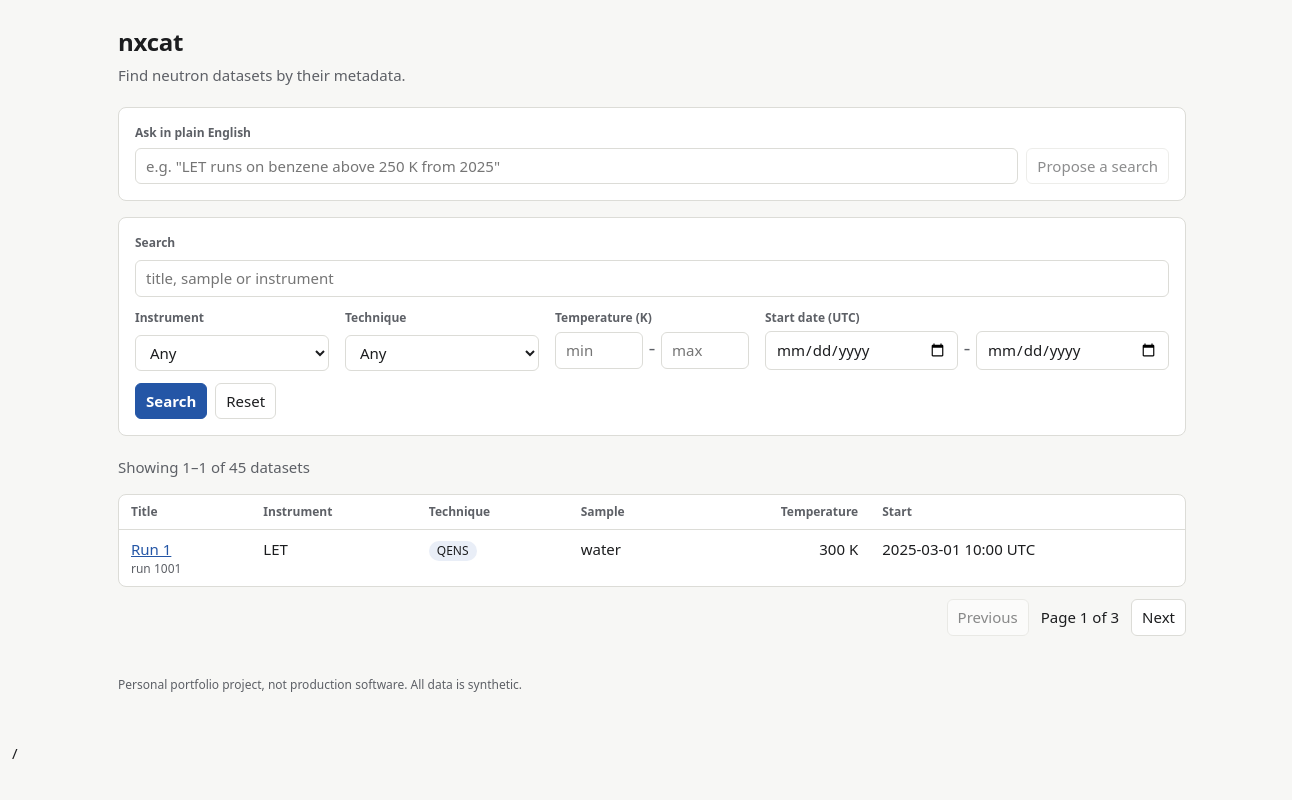
Test: SearchPage › moves between pages
The width and height of the screenshot is (1292, 800).
Expected: the text "Page 1 of 3" is shown, [1041, 606, 1119, 628]
Expected: the button "Previous" is disabled, [947, 599, 1029, 636]
Click the button "Next". click: (1159, 617)
box: [1131, 599, 1186, 636]
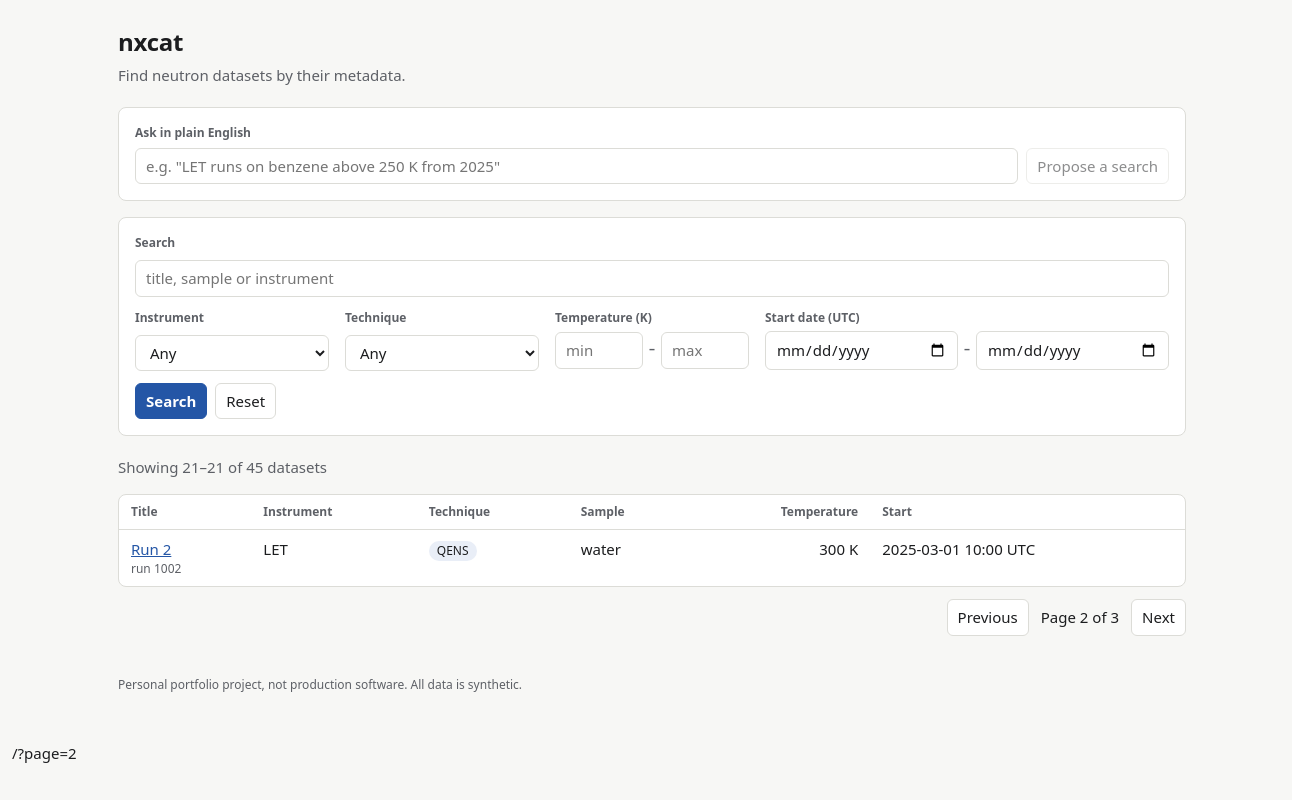
Expected: the text "Page 2 of 3" is shown, [1041, 606, 1119, 628]
Expected: the text "Showing 21–21 of 45 datasets" is shown, [118, 457, 327, 477]
Click the button "Next". click: (1159, 617)
box: [1131, 599, 1186, 636]
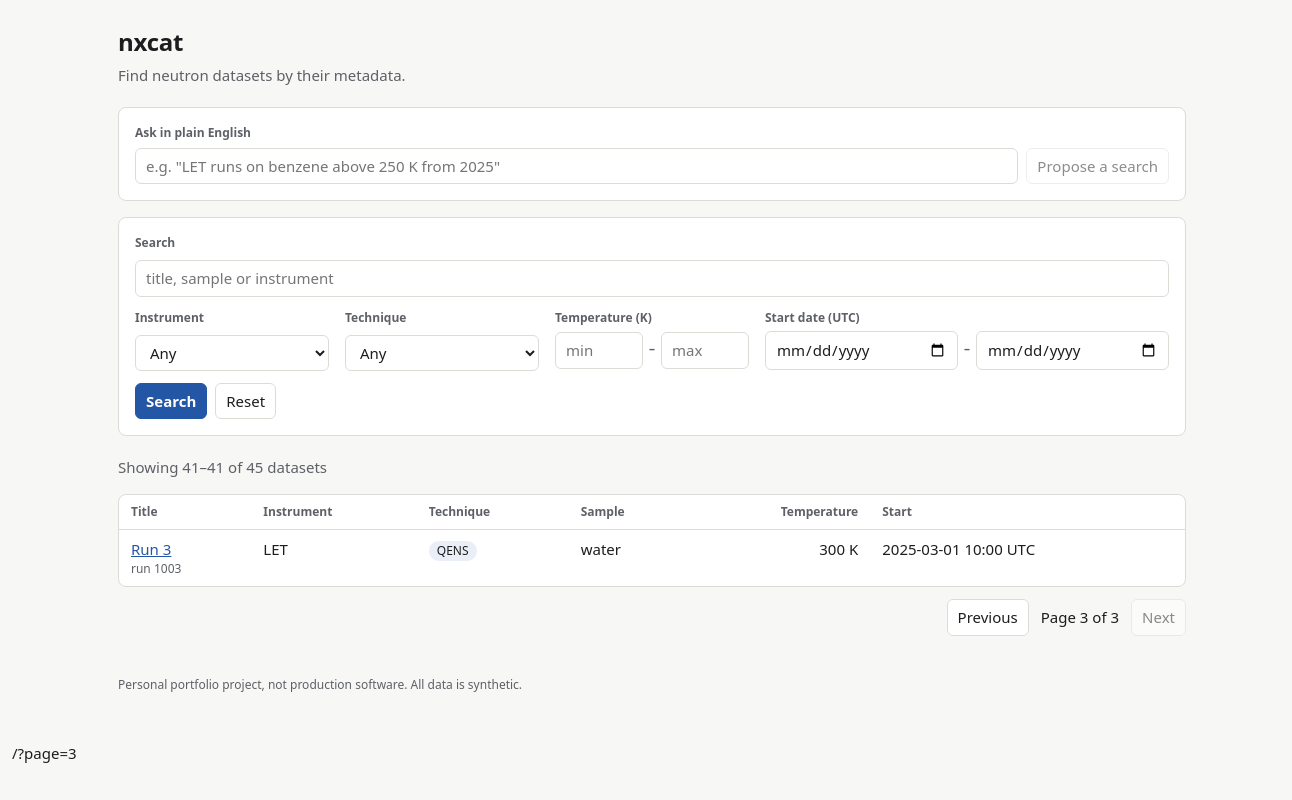
Expected: the text "Page 3 of 3" is shown, [1041, 606, 1119, 628]
Expected: the button "Next" is disabled, [1131, 599, 1186, 636]
